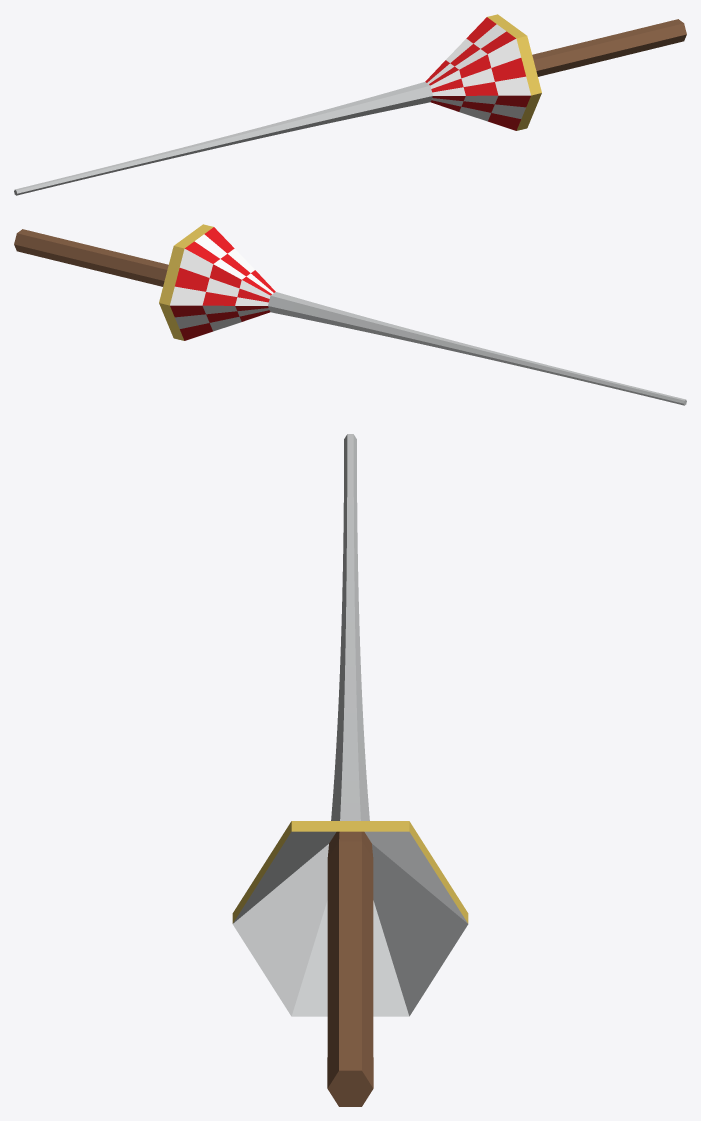
File: Lance.glb
3 renders of one model, top to bottom at view 1: azimuth 30°, elevation 25°; view 2: azimuth 150°, elevation 25°; view 3: azimuth 270°, elevation 25°, orthographic. The views are drawn at different scales.
Visible parts, largest first — view 1: Cylinder; view 2: Cylinder; view 3: Cylinder.
Part boxes in pixels (x1,y1,x2,y2): Cylinder: (14,14,686,195); Cylinder: (14,224,686,405); Cylinder: (232,434,468,1106).
Size of the model in its own units: 16.7 by 2.22 by 2.56.
